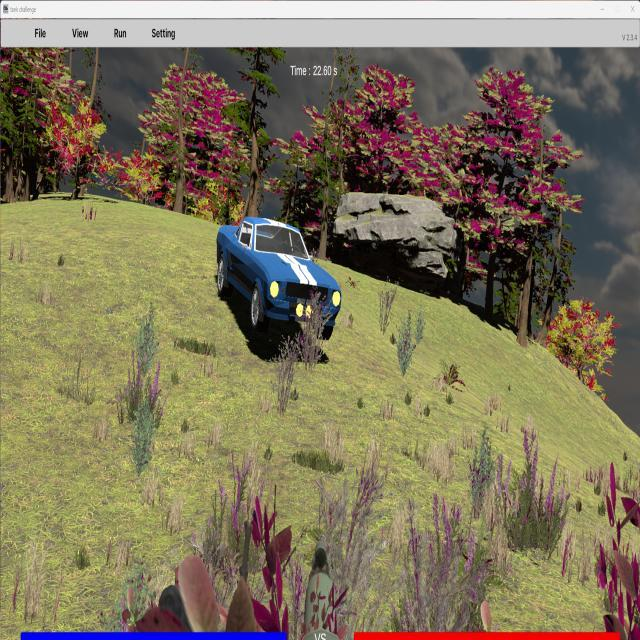car: (216, 216, 343, 340)
